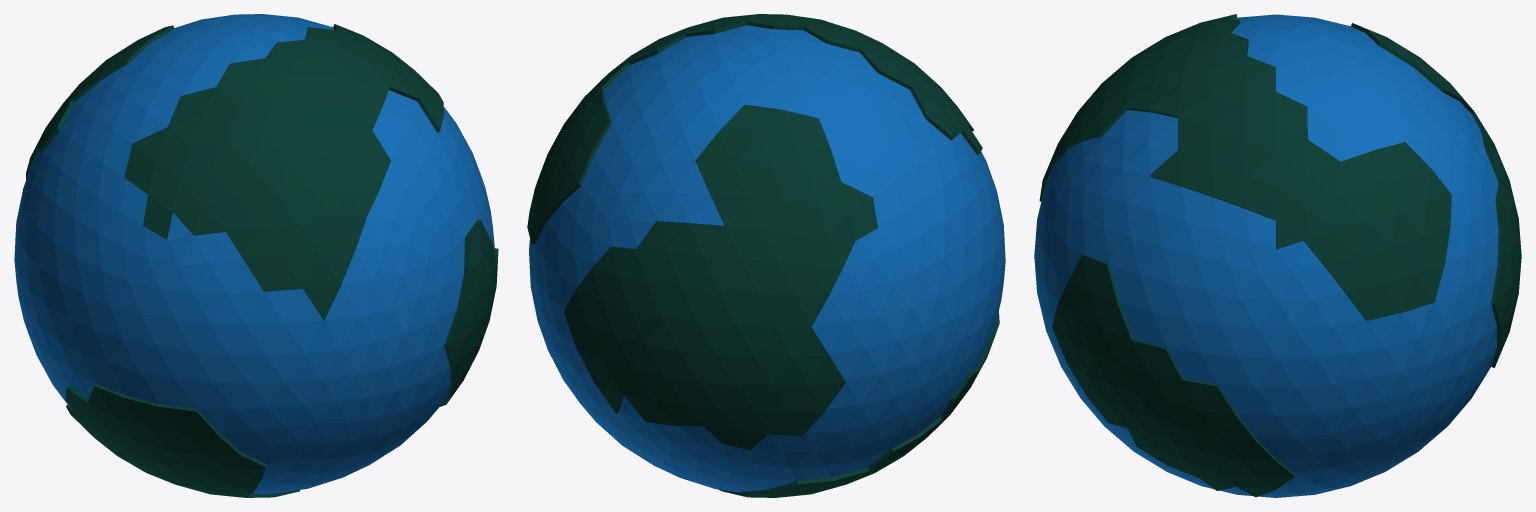
Rendered from Planet.fbx.
3 views of the same model, side by side, from view 1: azimuth 30°, elevation 25°; view 2: azimuth 150°, elevation 25°; view 3: azimuth 270°, elevation 25° (orthographic).
Visible parts, largest first — view 1: Planet; view 2: Planet; view 3: Planet.
Part boxes in pixels (<box>): Planet: <box>14,14,498,497</box>; Planet: <box>527,14,1005,497</box>; Planet: <box>1034,14,1521,497</box>.
Bounding box in the file's own units: 3000 × 3035 × 3023.
1 material, 1 textured.
